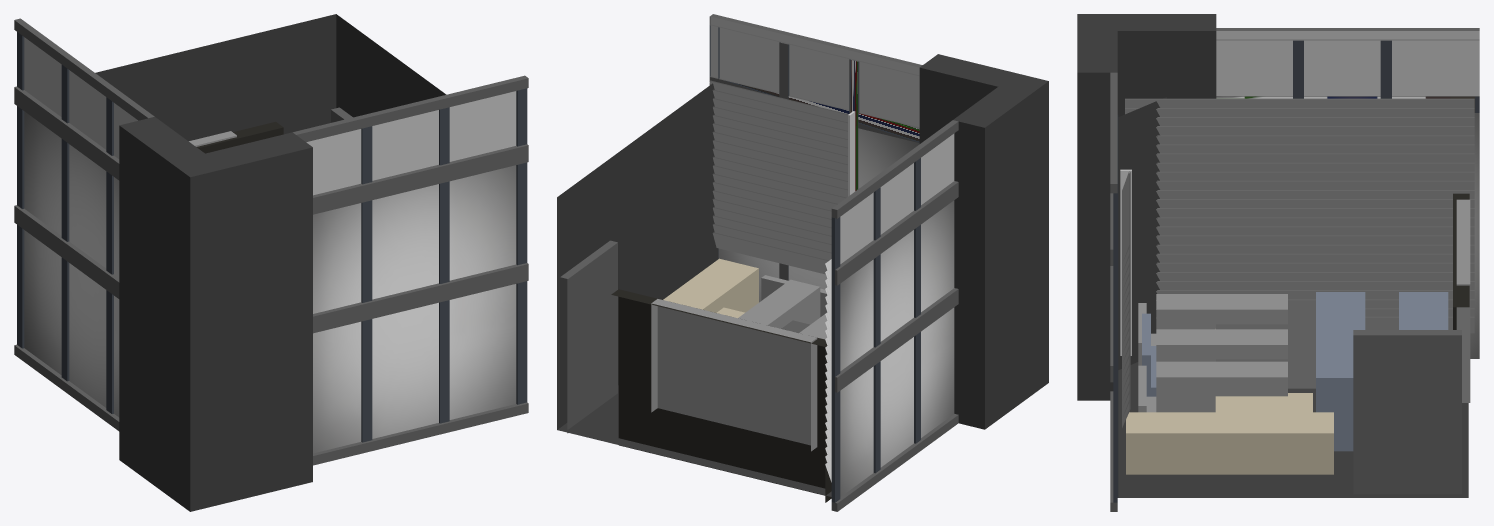
The model's file is Wall_26_Fake_Interior_Corner.FBX.
The picture shows the model from 3 angles, left to right: view 1: azimuth 30°, elevation 25°; view 2: azimuth 150°, elevation 25°; view 3: azimuth 270°, elevation 25°; orthographic projection. The views are drawn at different scales.
Parts seen in each view (by area): view 1: Wall_26_Fake Interior_Corner_LOD0, Wall_26_Fake Interior_C; view 2: Wall_26_Fake Interior_Corner_LOD0, Wall_26_Blind_02_LOD0, Wall_26_Fake Interior_A, Wall_26_Fake Interior_C, Wall_26_Fake Interior_B, Wall_26_Blind_01_LOD0; view 3: Wall_26_Blind_01_LOD0, Wall_26_Fake Interior_Corner_LOD0, Wall_26_Fake Interior_C, Wall_26_Fake Interior_B, Wall_26_Fake Interior_A, Wall_26_Blind_02_LOD0.
Boxes of the visible parts, x1,y1,x2,y2 form: Wall_26_Fake Interior_Corner_LOD0: (14, 14, 528, 511); Wall_26_Fake Interior_C: (196, 121, 283, 153); Wall_26_Fake Interior_Corner_LOD0: (557, 14, 1048, 511); Wall_26_Blind_02_LOD0: (709, 80, 855, 274); Wall_26_Fake Interior_A: (567, 275, 827, 451); Wall_26_Fake Interior_C: (567, 258, 831, 502); Wall_26_Fake Interior_B: (560, 240, 827, 429); Wall_26_Blind_01_LOD0: (825, 259, 831, 482); Wall_26_Blind_01_LOD0: (1125, 98, 1474, 333); Wall_26_Fake Interior_Corner_LOD0: (1077, 14, 1479, 511); Wall_26_Fake Interior_C: (1126, 193, 1469, 494); Wall_26_Fake Interior_B: (1156, 292, 1461, 451); Wall_26_Fake Interior_A: (1138, 199, 1470, 412); Wall_26_Blind_02_LOD0: (1120, 169, 1131, 427).
Size of what is drawn, in the model's own units: 200 by 180 by 200.
